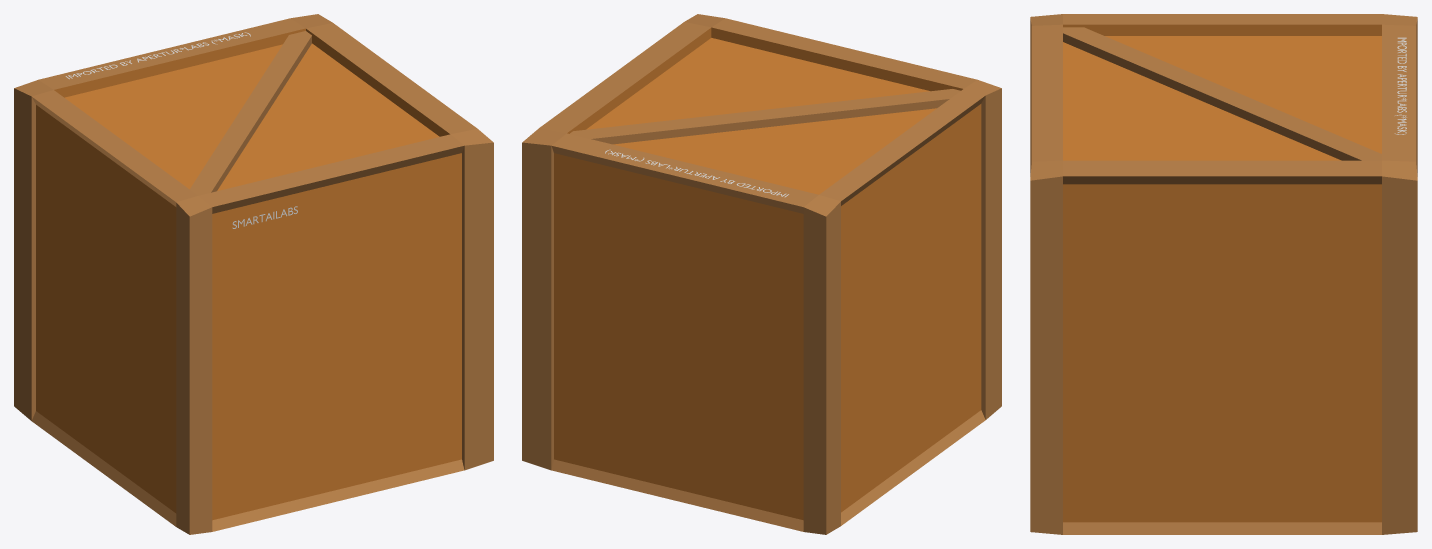
The picture shows the model from 3 angles, left to right: view 1: azimuth 30°, elevation 25°; view 2: azimuth 150°, elevation 25°; view 3: azimuth 270°, elevation 25°; orthographic projection. The views are drawn at different scales.
Visible parts, largest first — view 1: Cube, Cube.001; view 2: Cube, Cube.001; view 3: Cube, Cube.001, Text.001.
Boxes of the visible parts, bbox=[...] form: Cube: bbox=[14, 14, 493, 534]; Cube.001: bbox=[190, 31, 311, 195]; Cube: bbox=[522, 14, 1001, 534]; Cube.001: bbox=[570, 89, 960, 144]; Cube: bbox=[1030, 14, 1417, 534]; Cube.001: bbox=[1063, 27, 1381, 160]; Text.001: bbox=[1394, 37, 1406, 134].
Bounding box in the file's own units: 208 × 213 × 208.
